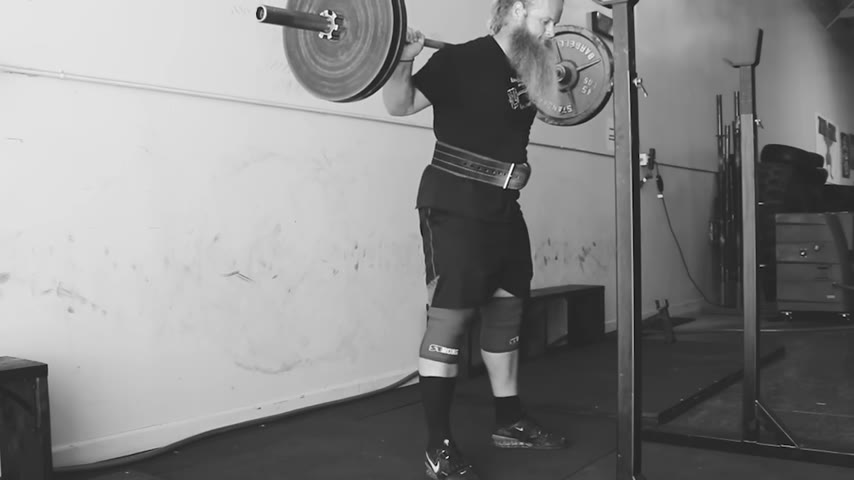barbell_plate_side: (252, 0, 350, 143), (542, 1, 629, 142)
